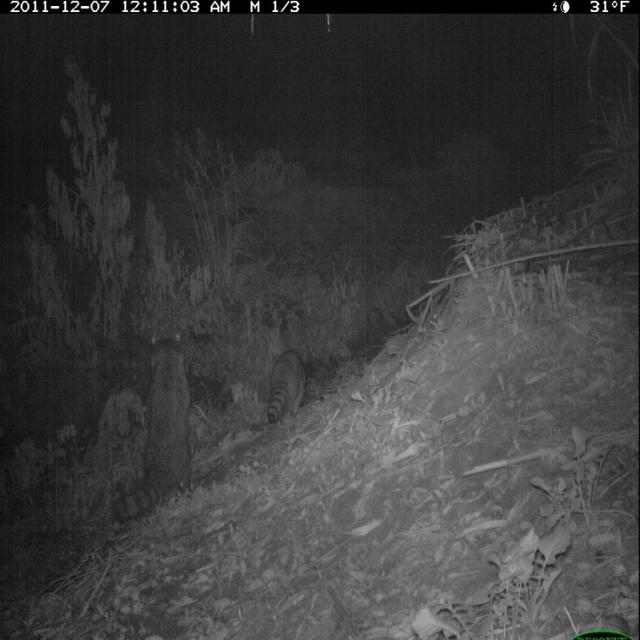raccoon: (108, 317, 203, 527), (250, 346, 310, 430)
